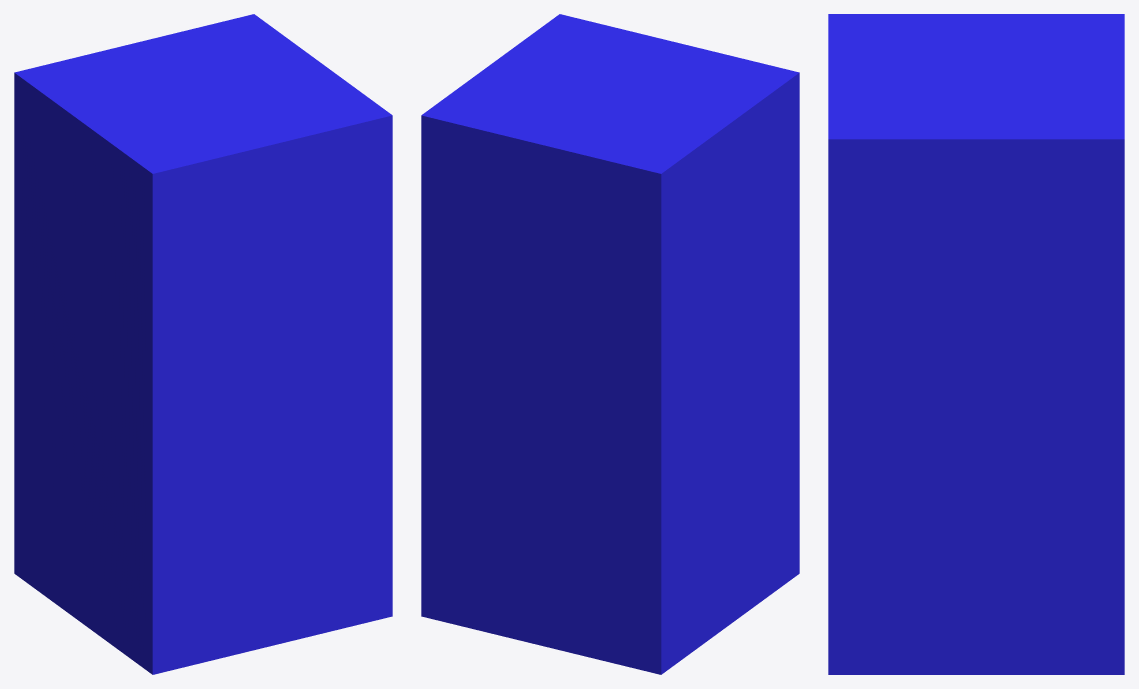
File: RoyalBlueNormalEdge.fbx
3 renders of one model, left to right at view 1: azimuth 30°, elevation 25°; view 2: azimuth 150°, elevation 25°; view 3: azimuth 270°, elevation 25°, orthographic. The views are drawn at different scales.
Parts seen in each view (by area): view 1: 4.BODY.green.016; view 2: 4.BODY.green.016; view 3: 4.BODY.green.016.
Boxes of the visible parts, x1,y1,x2,y2 form: 4.BODY.green.016: (14,14,392,674); 4.BODY.green.016: (421,14,799,674); 4.BODY.green.016: (828,14,1124,674).
Bounding box in the file's own units: 101 × 201 × 101.
